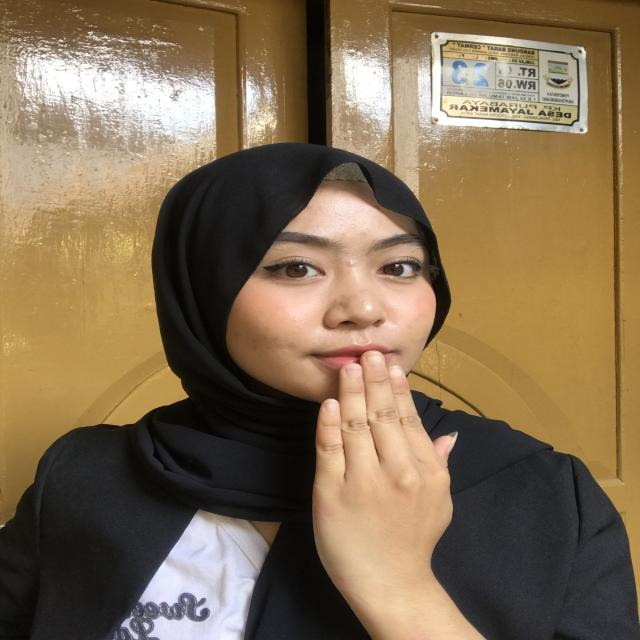ganteng: (292, 350, 463, 587)
